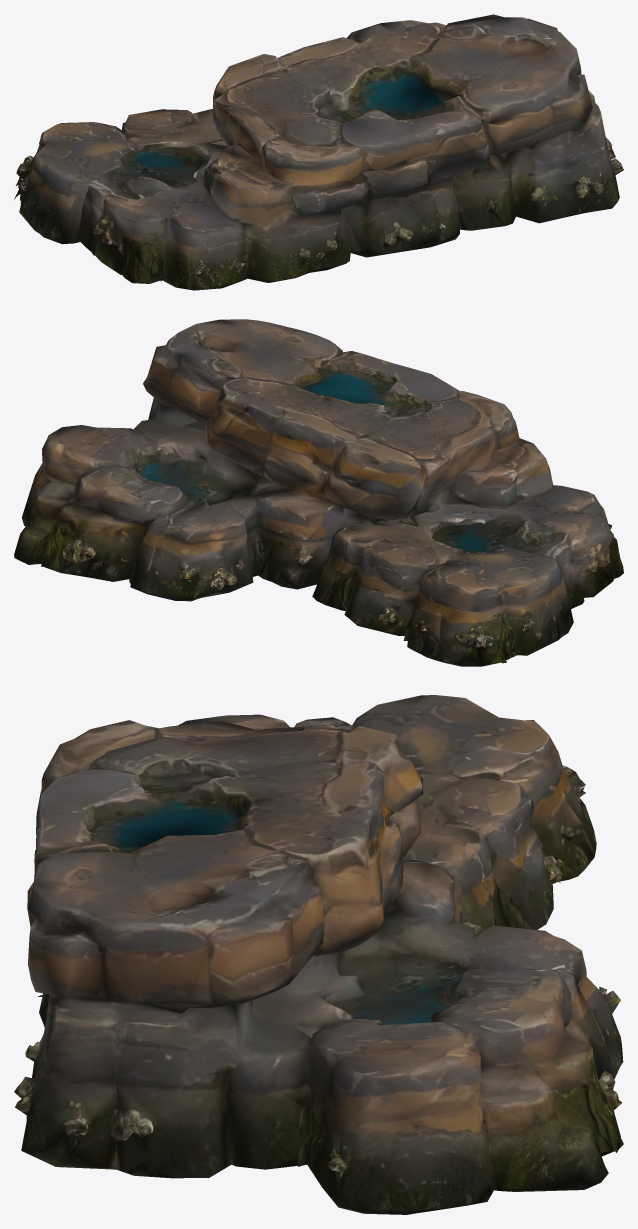
The model's file is env-shore.glb.
3 views of the same model, one above another, from view 1: azimuth 30°, elevation 25°; view 2: azimuth 150°, elevation 25°; view 3: azimuth 270°, elevation 25° (orthographic). The views are drawn at different scales.
Visible parts, largest first — view 1: tripo_node_dc2e04e9-f0fd-4ed9-a535-df32dd05d887; view 2: tripo_node_dc2e04e9-f0fd-4ed9-a535-df32dd05d887; view 3: tripo_node_dc2e04e9-f0fd-4ed9-a535-df32dd05d887.
Boxes of the visible parts, x1=… form: tripo_node_dc2e04e9-f0fd-4ed9-a535-df32dd05d887: x1=14, y1=14, x2=623, y2=290; tripo_node_dc2e04e9-f0fd-4ed9-a535-df32dd05d887: x1=14, y1=319, x2=623, y2=666; tripo_node_dc2e04e9-f0fd-4ed9-a535-df32dd05d887: x1=14, y1=695, x2=623, y2=1214.
Bounding box in the file's own units: 0.9982 × 0.2631 × 0.6057.
1 material, 1 textured.
